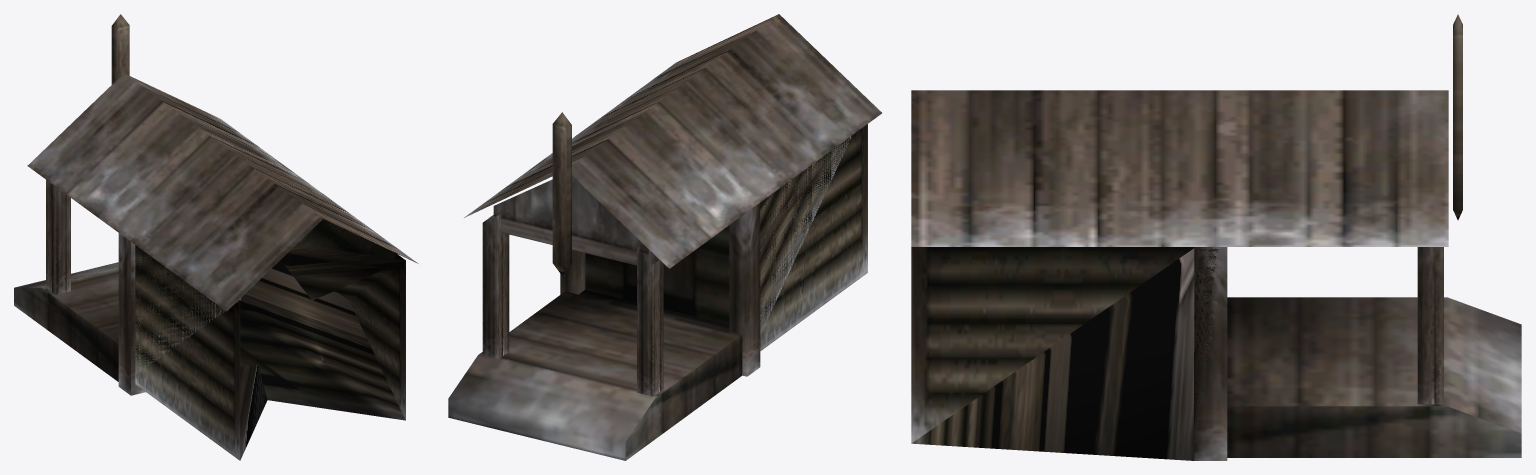
The model's file is stbuho33.dae.
3 views of the same model, side by side, from view 1: azimuth 30°, elevation 25°; view 2: azimuth 150°, elevation 25°; view 3: azimuth 270°, elevation 25° (orthographic). The views are drawn at different scales.
Visible parts, largest first — view 1: mine2, roof; view 2: mine2, roof; view 3: mine2, roof.
Part boxes in pixels (x1,y1,x2,y2): mine2: (14, 14, 418, 460); roof: (135, 219, 405, 459); mine2: (448, 14, 881, 460); roof: (760, 136, 850, 334); mine2: (911, 14, 1521, 460); roof: (911, 248, 1224, 460).
Bounding box in the file's own units: 3.12 × 6.33 × 4.45.
1 material, 1 textured.
